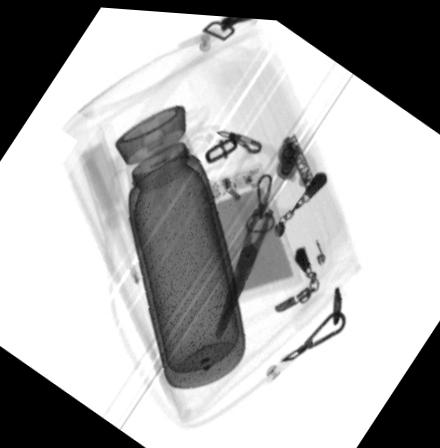Powerbank: (196, 154, 305, 305)
Scissors: (210, 130, 319, 339)
